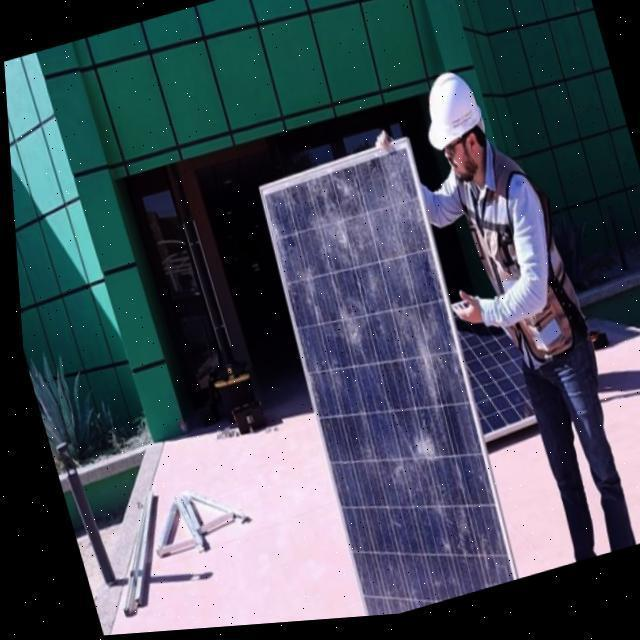Anomaly Solar Panel: (262, 155, 505, 621)
Normal Solar Panel: (447, 313, 535, 451)
Surface Contaminant: (265, 160, 498, 621)
